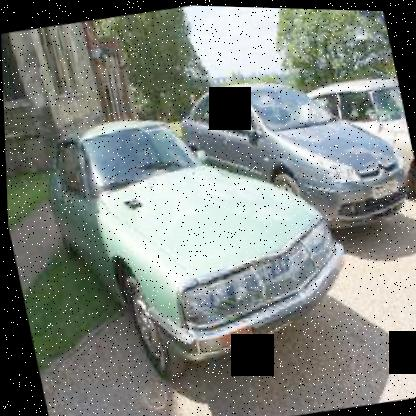not_emergency: (32, 87, 369, 397)
